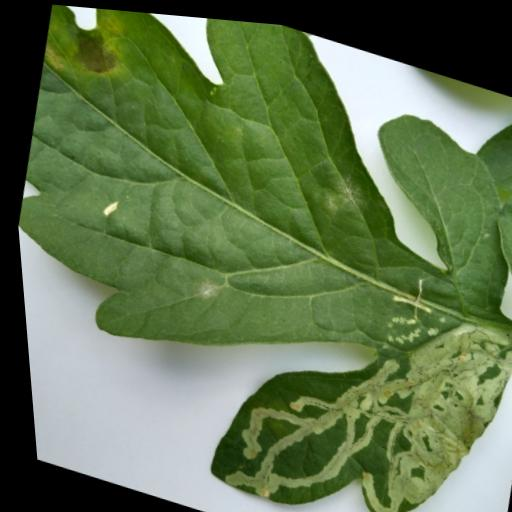Leaf_Miner: (160, 190, 512, 512)
